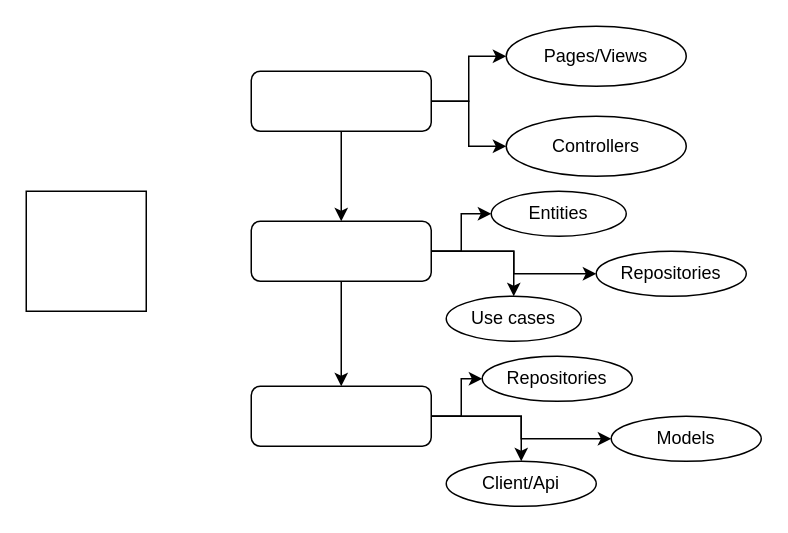
Image size: 788x533. Some labels were removed from this diagram. Here are the shapes that lost their labels. From the top down, the box of each, then its label:
(250, 70, 431, 131): Presentation
(25, 190, 146, 311): Core
(250, 220, 431, 281): Domain
(250, 385, 431, 446): Data
